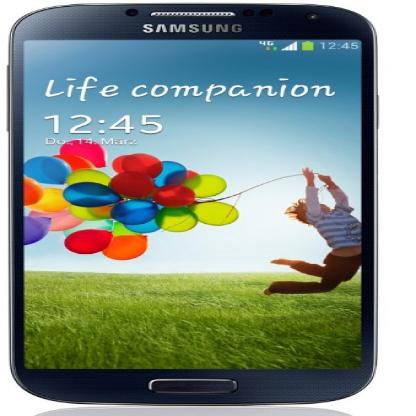SMARTPHONE: (9, 3, 379, 407)
